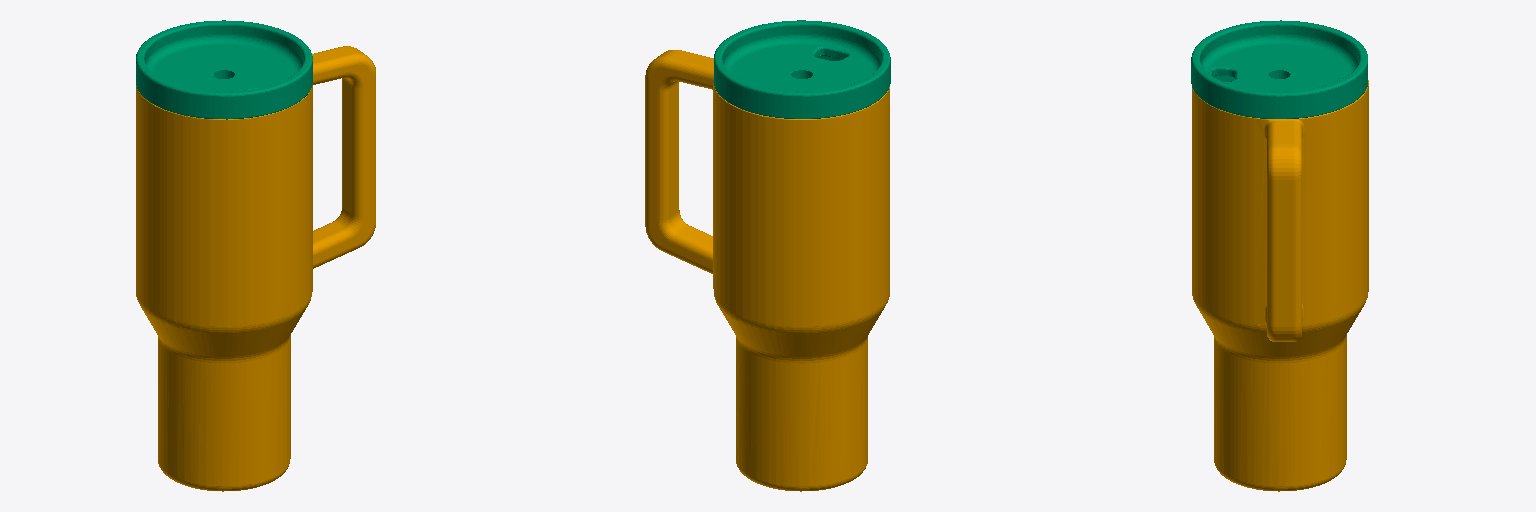
URDF robot description (tumbler):
<?xml version="1.0"?>
<!-- tumbler.urdf 에서 몸체(body) 링크의 collision 제거. 나사 구속과 cap 은 원본 그대로.
     GUI 진단용이며 학습에는 쓰지 않는다. -->
<robot name="tumbler">
  <link name="body">
    <visual>
      <geometry><mesh filename="meshes/body_visual.obj"/></geometry>
    </visual>
    <inertial>
      <mass value="0.3"/>
      <origin xyz="0.020946 0.000643 0.134835"/>
      <inertia ixx="0.00167630" iyy="0.00206606" izz="0.00082941" ixy="0" ixz="0" iyz="0"/>
    </inertial>
  </link>

  <!-- 회전 자유도. 뚜껑을 푸는 방향이 +.
       상한(182도)은 나사 끝(180도)보다 2도 여유를 둔다. 둘을 같게 두면
       PhysX 가 하드 스톱에 정확히 수렴하지 않아 각도가 177~178 에서
       멈추고, 거기 걸린 해제 판정이 영영 성립하지 않는다.
       type 은 반드시 revolute + 유한 limit 이어야 한다. continuous 로 두면 PhysX 가
       "needs a finite limit set to be used by the mimic joint feature" 로 거부한다. -->
  <link name="cap_spinner">
    <inertial>
      <mass value="1e-4"/>
      <inertia ixx="1e-8" iyy="1e-8" izz="1e-8" ixy="0" ixz="0" iyz="0"/>
    </inertial>
  </link>
  <joint name="cap_spin" type="revolute">
    <parent link="body"/>
    <child link="cap_spinner"/>
    <origin xyz="0 0 0.225000"/>
    <axis xyz="0 0 1"/>
    <limit lower="-0.020000" upper="3.176499" effort="50.0" velocity="20.0"/>
    <dynamics damping="0.001" friction="0.0"/>
  </joint>

  <!-- 축방향 자유도. 나사 구간(0~0.01 m)에서는 회전을 따라가고,
       그 뒤 0.12 m 는 뚜껑을 들어내는 자유 행정이다.
       Isaac Gym 은 mimic 을 무시하므로 tools/screw_coupling.py 가 대신 구동한다. -->
  <joint name="cap_lift" type="prismatic">
    <parent link="cap_spinner"/>
    <child link="cap"/>
    <origin xyz="0 0 0"/>
    <axis xyz="0 0 1"/>
    <limit lower="0.0" upper="0.13" effort="100.0" velocity="5.0"/>
    <mimic joint="cap_spin" multiplier="3.18309886e-03" offset="0.0"/>
  </joint>

  <link name="cap">
    <visual>
      <geometry><mesh filename="meshes/cap_visual.obj"/></geometry>
    </visual>
    <collision>
      <geometry><mesh filename="meshes/cap_collision.obj"/></geometry>
    </collision>
    <inertial>
      <mass value="0.05"/>
      <origin xyz="-0.000048 0.000284 0.015506"/>
      <inertia ixx="0.00004334" iyy="0.00004411" izz="0.00008291" ixy="0" ixz="0" iyz="0"/>
    </inertial>
  </link>

  <!-- 매끈한 원통이라 그대로는 미끄럽다. 나사산 대신 마찰로 그립을 만든다. -->
  <gazebo reference="cap"><mu1>2.0</mu1><mu2>2.0</mu2></gazebo>
  <gazebo reference="body"><mu1>2.0</mu1><mu2>2.0</mu2></gazebo>
</robot>

--- What the picture shows (computed from the rendered views, not written in the file) ---
Views: 3 orthographic renders of the robot side by side, from view 1: azimuth 30°, elevation 25°; view 2: azimuth 150°, elevation 25°; view 3: azimuth 270°, elevation 25°.
Model tumbler with 3 links and 2 joints (1 revolute, 1 prismatic), rooted at body, posed all joints at 0.
Links seen in each view (by area): view 1: body, cap; view 2: body, cap; view 3: body, cap.
Boxes of the visible links, box(x1,y1,x2,y2) form: body: box(136, 46, 375, 491); cap: box(136, 20, 312, 119); body: box(645, 50, 889, 491); cap: box(714, 20, 890, 118); body: box(1192, 80, 1368, 491); cap: box(1191, 20, 1367, 118).
Size in the robot's own frame: 0.1471 by 0.1002 by 0.255 metres.
Meshes: 2 distinct files referenced, 2 mesh visuals loaded (2 OBJ).
